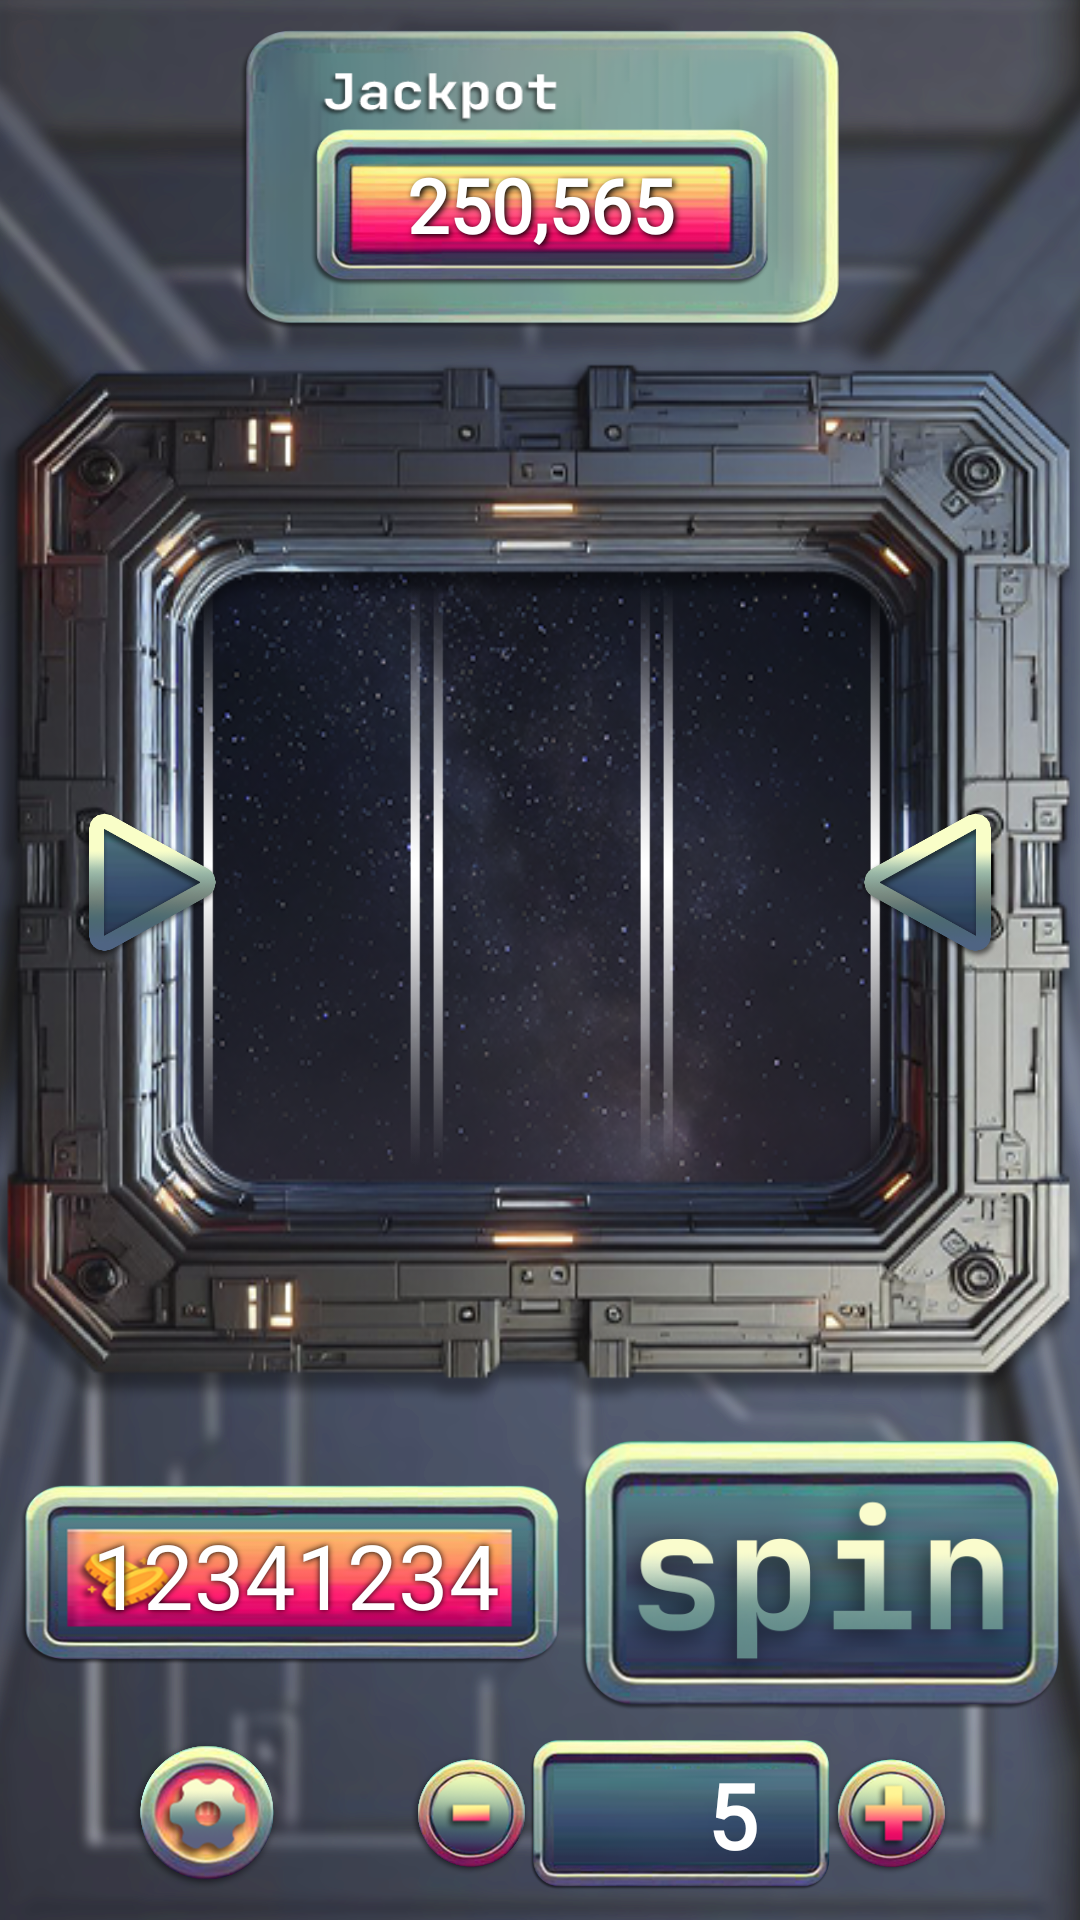

Screen size 1080w x 1920h. Icon name, then its center in pixels as (x=x, y=y):
minus: (x=473, y=1812)
plus: (x=890, y=1814)
settings: (x=209, y=1811)
